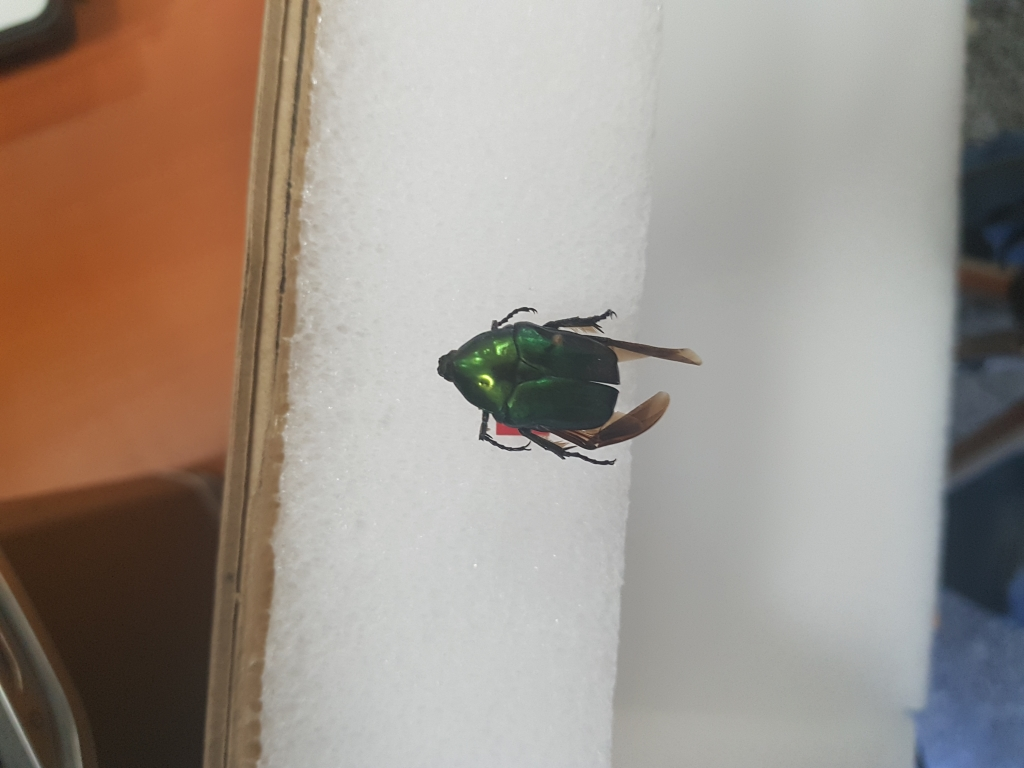Protaetia_besucheti: (431, 292, 713, 470)
